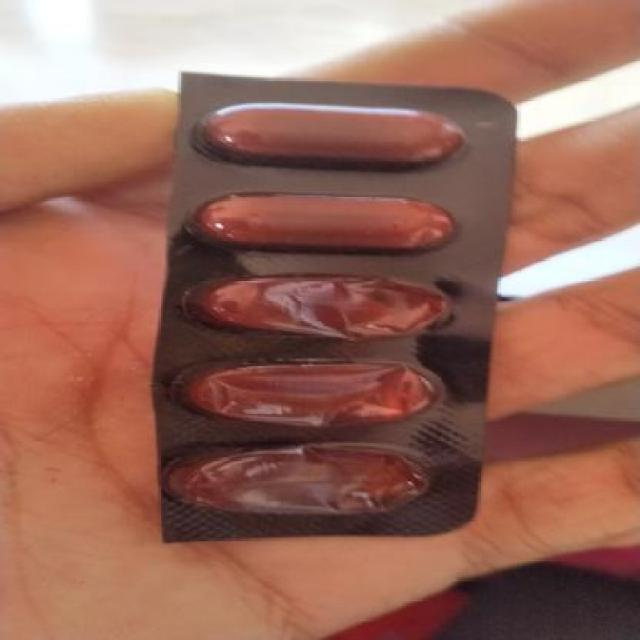garbage: (139, 57, 504, 536)
